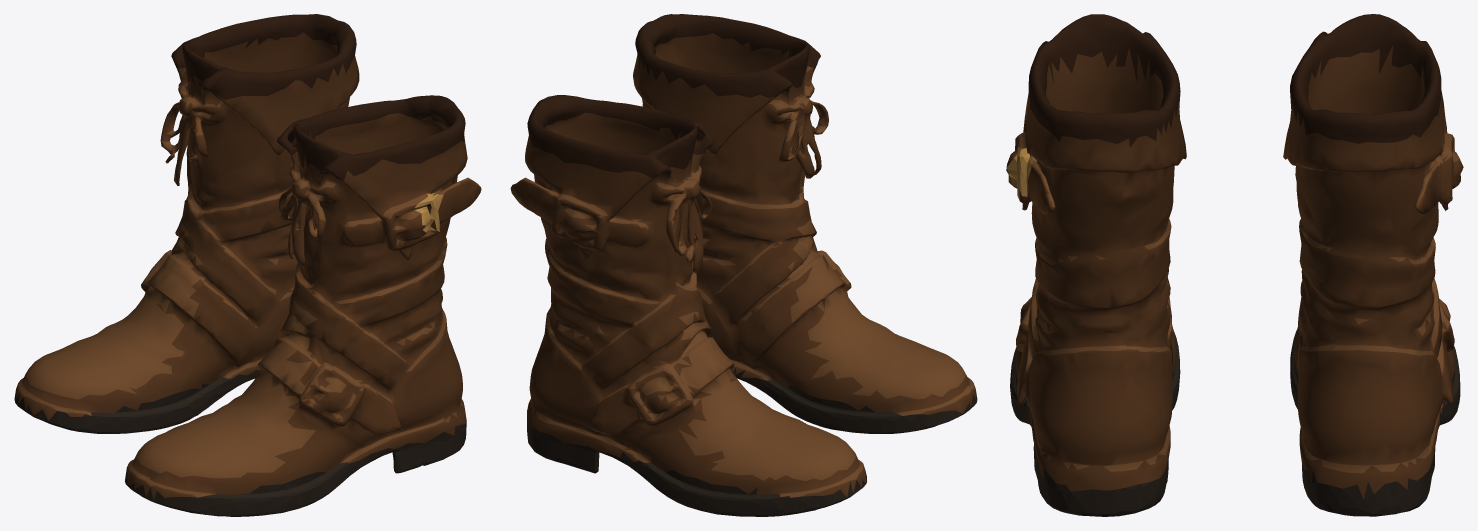
File: botas.glb
3 renders of one model, left to right at view 1: azimuth 30°, elevation 25°; view 2: azimuth 150°, elevation 25°; view 3: azimuth 270°, elevation 25°, orthographic. The views are drawn at different scales.
Parts seen in each view (by area): view 1: tmp6iqqtd2b.ply; view 2: tmp6iqqtd2b.ply; view 3: tmp6iqqtd2b.ply.
Part boxes in pixels (x1,y1,x2,y2): tmp6iqqtd2b.ply: (14,14,481,516); tmp6iqqtd2b.ply: (510,14,977,516); tmp6iqqtd2b.ply: (1006,14,1463,516).
Bounding box in the file's own units: 1.96 × 1.96 × 1.95.
